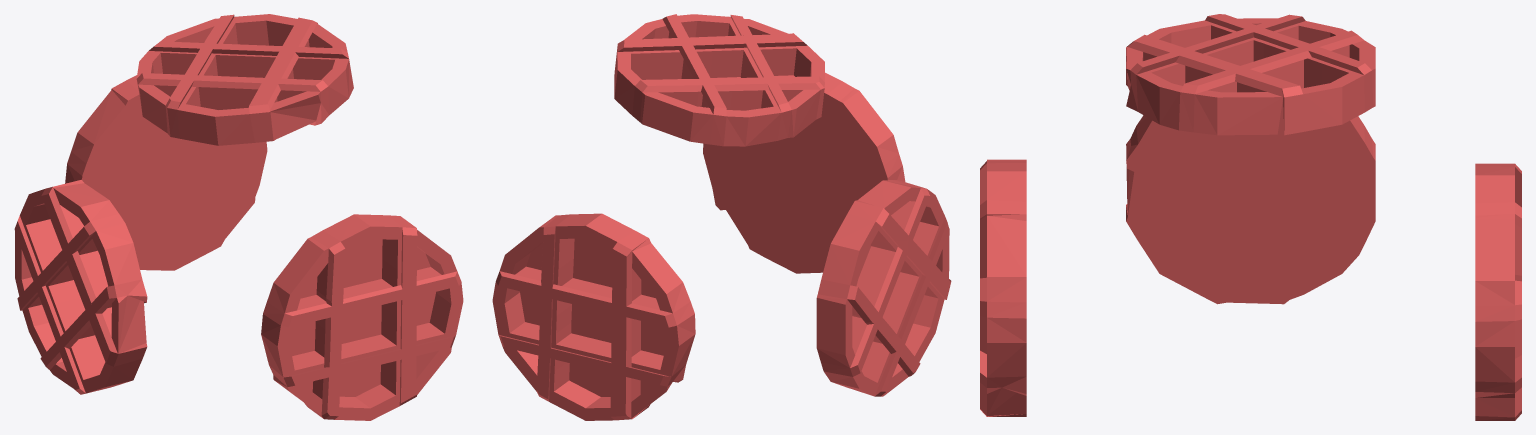
The picture shows the model from 3 angles, left to right: view 1: azimuth 30°, elevation 25°; view 2: azimuth 150°, elevation 25°; view 3: azimuth 270°, elevation 25°; orthographic projection. The views are drawn at different scales.
Parts seen in each view (by area): view 1: pCylinder5; view 2: pCylinder5; view 3: pCylinder5.
Part boxes in pixels (box(x1,y1,x2,y2)): pCylinder5: box(14, 14, 463, 420); pCylinder5: box(492, 14, 951, 420); pCylinder5: box(980, 14, 1521, 420).
Size of the model in its own units: 9.63 by 9.08 by 12.57.
